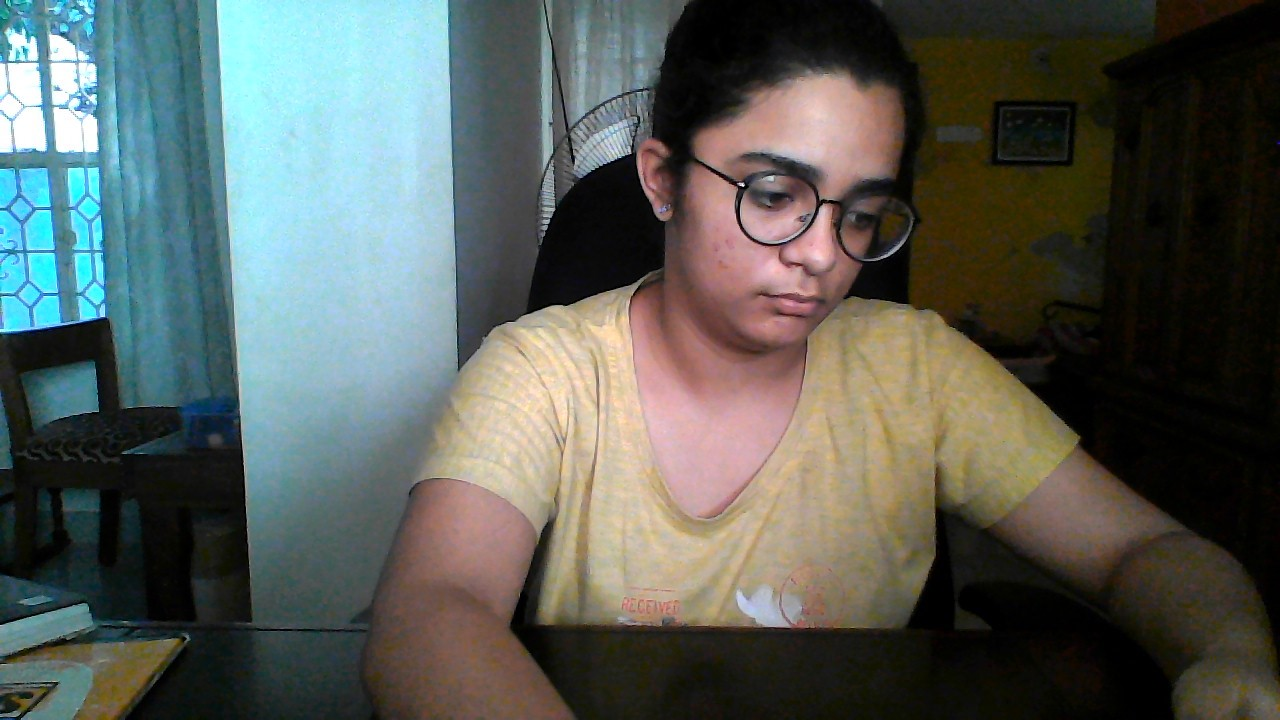person: (591, 5, 1039, 442)
